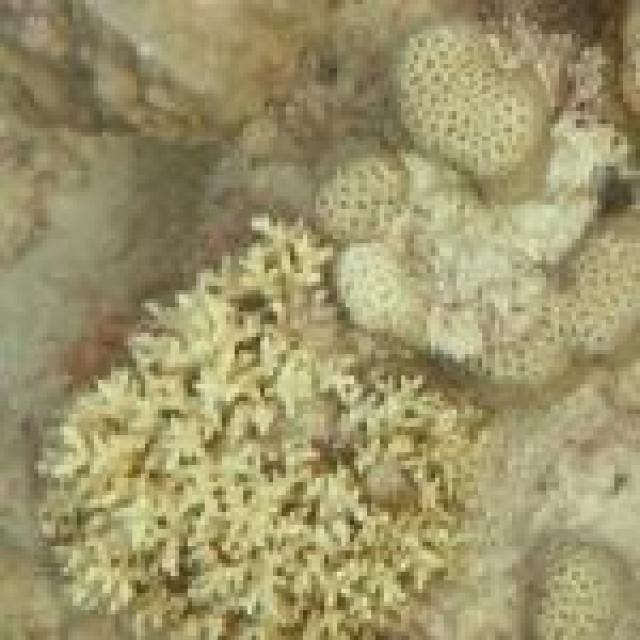Bleached Coral: (41, 216, 476, 640), (343, 156, 640, 373)
Healthy Coral: (524, 526, 633, 640)
